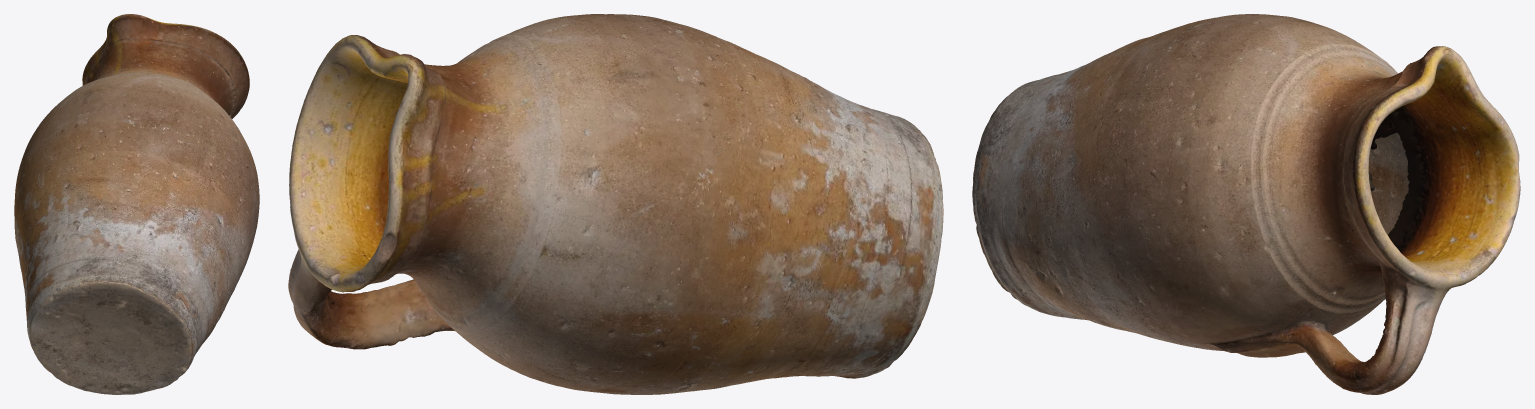
File: 静物_瓶罐_Pottery Jug_V9.9.2_Ultimate_opt.glb
The picture shows the model from 3 angles, left to right: view 1: azimuth 30°, elevation 25°; view 2: azimuth 150°, elevation 25°; view 3: azimuth 270°, elevation 25°; orthographic projection. The views are drawn at different scales.
Parts seen in each view (by area): view 1: Pottery_Jug1001; view 2: Pottery_Jug1001; view 3: Pottery_Jug1001.
Boxes of the visible parts, box(x1,y1,x2,y2) form: Pottery_Jug1001: box(14, 14, 259, 394); Pottery_Jug1001: box(288, 14, 943, 394); Pottery_Jug1001: box(972, 14, 1520, 394).
Bounding box in the file's own units: 0.2571 × 0.2 × 0.2806.
Materials: 1 (1 with a texture image).
